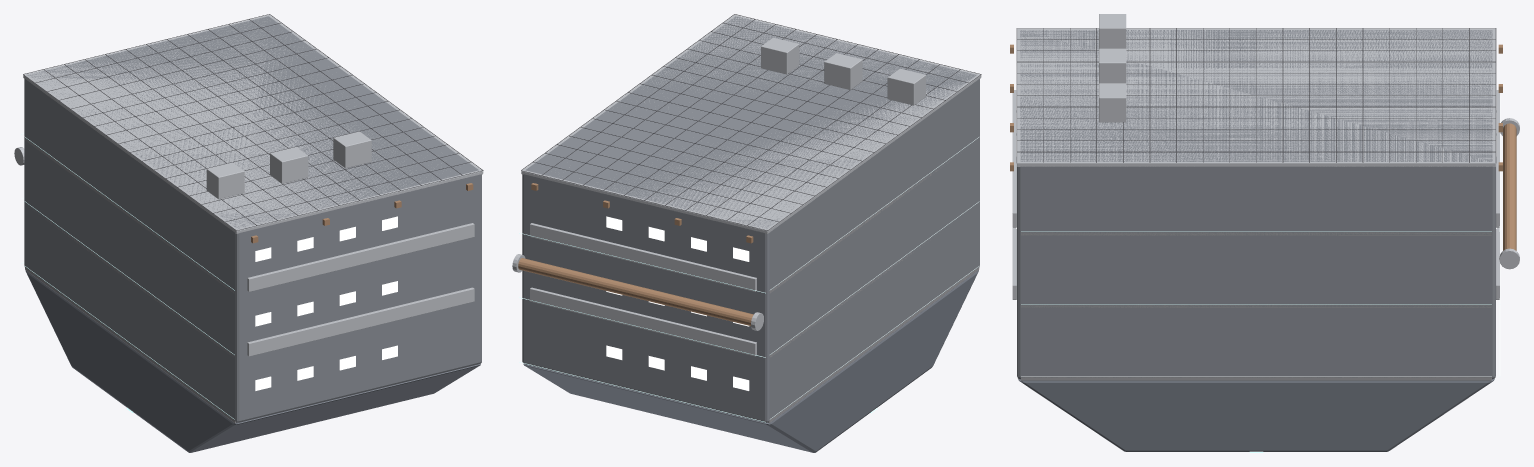
File: ship_mid_18x12.glb
The picture shows the model from 3 angles, left to right: view 1: azimuth 30°, elevation 25°; view 2: azimuth 150°, elevation 25°; view 3: azimuth 270°, elevation 25°; orthographic projection. The views are drawn at different scales.
Visible parts, largest first — view 1: ext_hull, ext_deck_top, ext_hull_belly, ext_deck_grid, ext_armor_plates, ext_deck_vents, ext_ports1, ext_ports0, ext_ports2, int_deck0, int_deck2, int_deck1; view 2: ext_hull, ext_deck_top, ext_hull_belly, ext_deck_grid, ext_armor_plates, ext_deck_vents, ext_hull_pipe, ext_ports2, ext_ports0, int_deck0, int_deck2, int_grid0; view 3: ext_hull, ext_deck_top, ext_hull_belly, ext_deck_grid, ext_deck_vents, int_deck0, ext_armor_plates, int_deck2, ext_hull_pipe, int_deck1, int_grid0, int_grid2 (+1 smaller).
Part boxes in pixels (x1,y1,x2,y2): ext_hull: (24, 16, 481, 422); ext_deck_top: (23, 14, 483, 233); ext_hull_belly: (25, 270, 480, 452); ext_deck_grid: (23, 14, 483, 230); ext_armor_plates: (247, 223, 474, 356); ext_deck_vents: (206, 131, 371, 199); ext_ports1: (255, 281, 397, 326); ext_ports0: (255, 345, 397, 390); ext_ports2: (255, 216, 397, 261); int_deck0: (25, 267, 235, 422); int_deck2: (25, 138, 234, 293); int_deck1: (25, 203, 234, 357); ext_hull: (522, 16, 979, 422); ext_deck_top: (521, 14, 981, 233); ext_hull_belly: (523, 270, 978, 452); ext_deck_grid: (521, 14, 981, 230); ext_armor_plates: (530, 223, 756, 356); ext_deck_vents: (761, 37, 925, 105); ext_hull_pipe: (518, 258, 753, 325); ext_ports2: (606, 216, 749, 261); ext_ports0: (606, 345, 749, 390); int_deck0: (768, 267, 979, 422); int_deck2: (769, 150, 963, 293); int_grid0: (519, 266, 979, 422); ext_hull: (1017, 30, 1495, 379); ext_deck_top: (1017, 28, 1495, 166); ext_hull_belly: (1018, 378, 1494, 451); ext_deck_grid: (1016, 28, 1496, 163); ext_deck_vents: (1099, 14, 1126, 122); int_deck0: (1021, 377, 1491, 380); ext_armor_plates: (1012, 90, 1499, 299); int_deck2: (1021, 232, 1491, 235); ext_hull_pipe: (1503, 123, 1516, 250); int_deck1: (1021, 304, 1491, 307); int_grid0: (1021, 304, 1500, 376); int_grid2: (1021, 97, 1500, 231).
Size of the model in its own units: 12.02 by 13.03 by 19.16.
